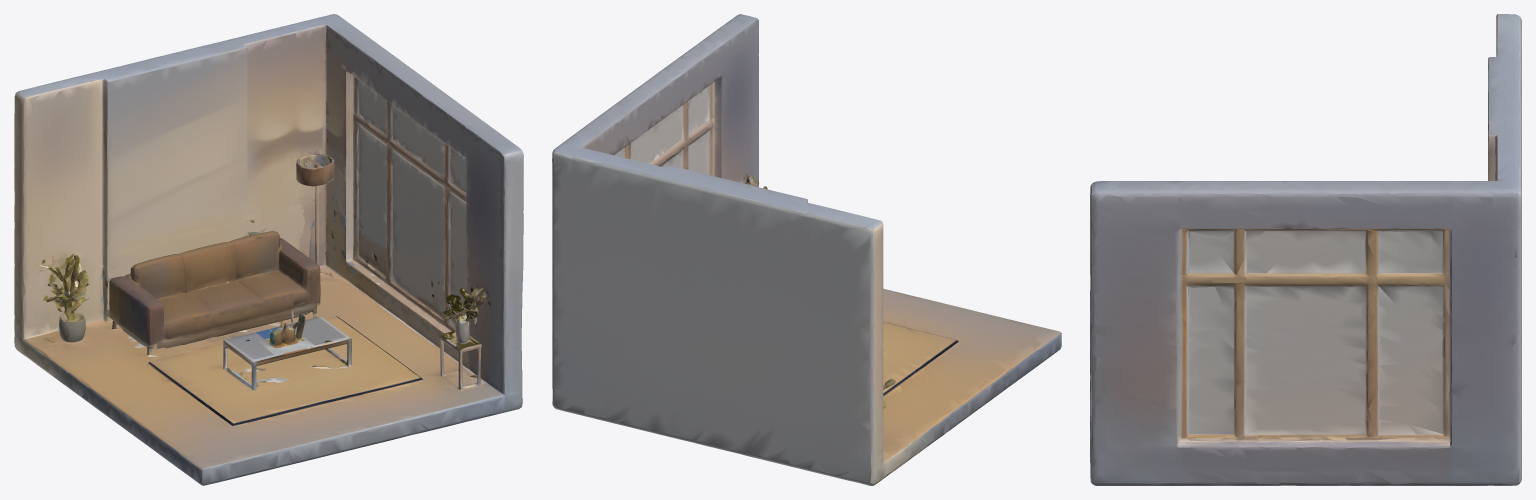
3 renders of one model, left to right at view 1: azimuth 30°, elevation 25°; view 2: azimuth 150°, elevation 25°; view 3: azimuth 270°, elevation 25°, orthographic. The views are drawn at different scales.
Parts seen in each view (by area): view 1: textured_mesh; view 2: textured_mesh; view 3: textured_mesh.
Part boxes in pixels (x1,y1,x2,y2): textured_mesh: (14, 14, 523, 485); textured_mesh: (552, 14, 1061, 485); textured_mesh: (1090, 14, 1521, 485).
Size of the model in its own units: 1.98 by 1.51 by 2.
1 material, 1 textured.
